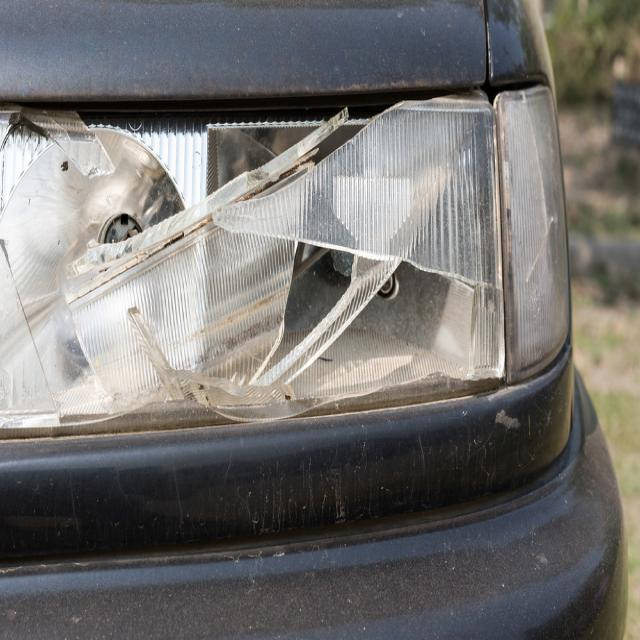Phare abime: (0, 88, 512, 408)
